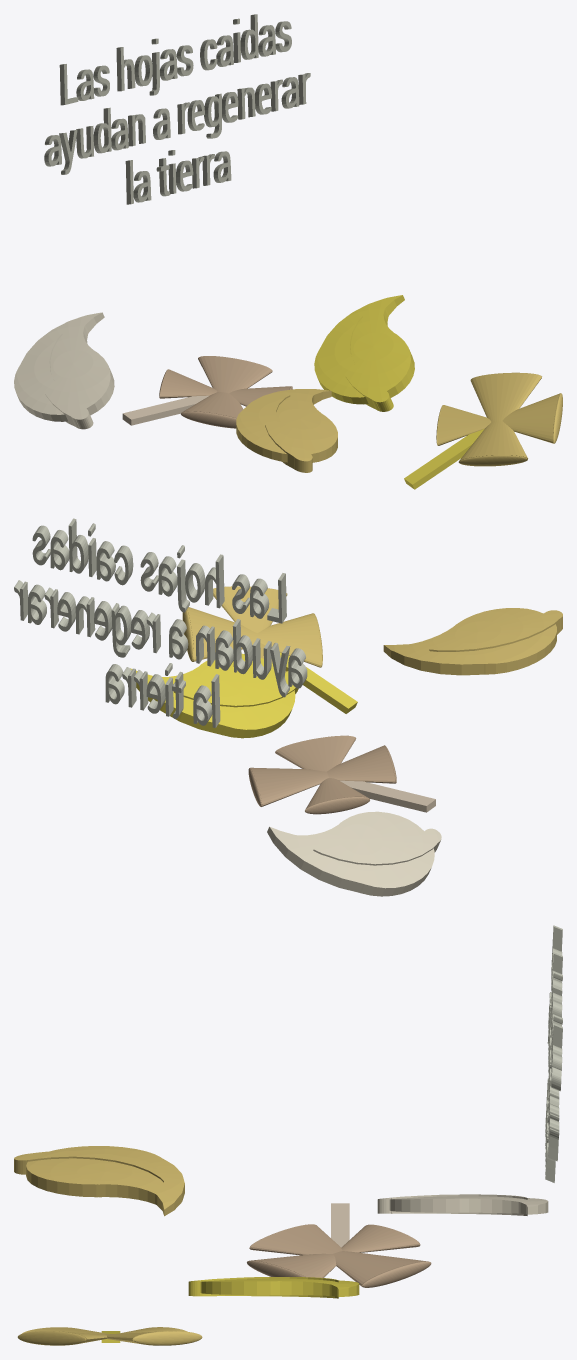
Rendered from asset.glb.
3 views of the same model, one above another, from view 1: azimuth 30°, elevation 25°; view 2: azimuth 150°, elevation 25°; view 3: azimuth 270°, elevation 25° (orthographic). The views are drawn at different scales.
Visible parts, largest first — view 1: Mesh_Mesh_head_geo.001_lambert2SG.001; view 2: Mesh_Mesh_head_geo.001_lambert2SG.001; view 3: Mesh_Mesh_head_geo.001_lambert2SG.001.
Part boxes in pixels (left/top/right/bottom): Mesh_Mesh_head_geo.001_lambert2SG.001: left=14, top=14, right=562, bottom=489; Mesh_Mesh_head_geo.001_lambert2SG.001: left=14, top=518, right=562, bottom=896; Mesh_Mesh_head_geo.001_lambert2SG.001: left=14, top=925, right=562, bottom=1345.
Size of the model in its own units: 127 by 103 by 151.
